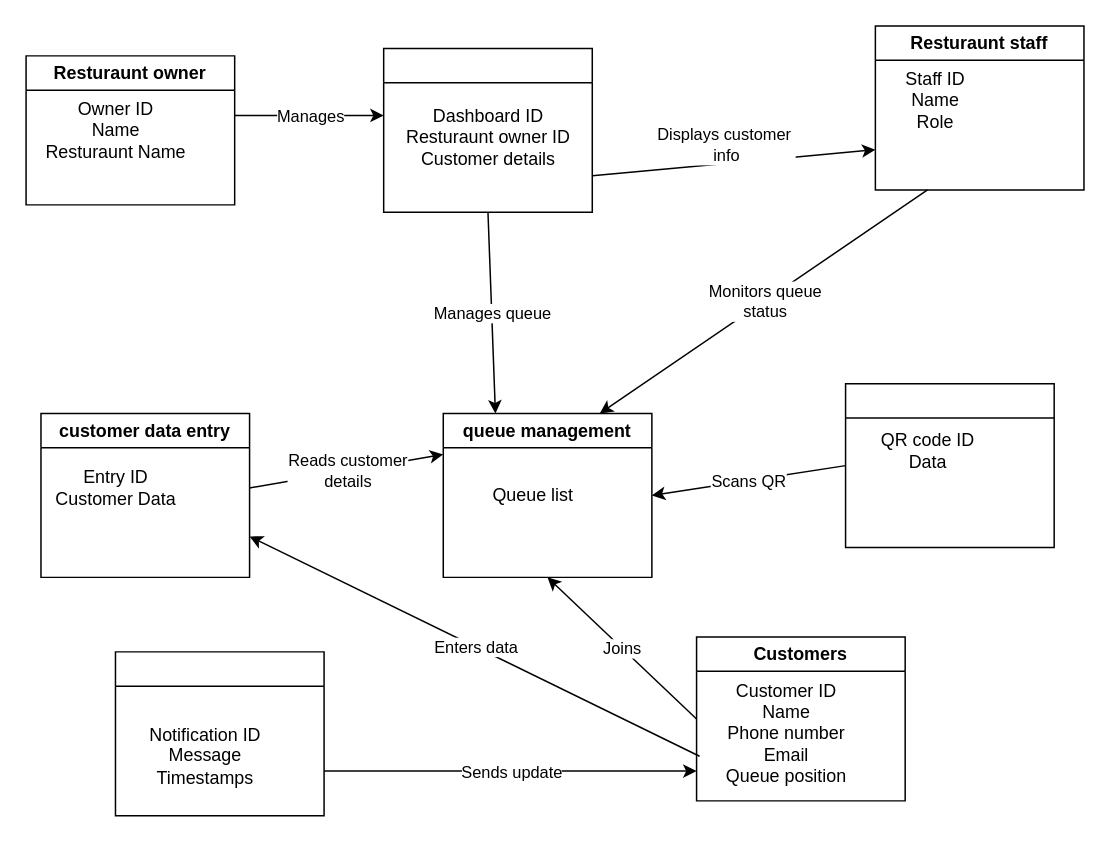
The diagram is 1110 pixels wide and 842 high, and some of its shapes have lost their labels. The box of each missing label's shape, as (x1, y1, x2, y2) in pixels:
QR intergration: (844, 382, 1054, 548)
Real time notification: (114, 650, 324, 816)
web based dashboard: (382, 47, 592, 212)
